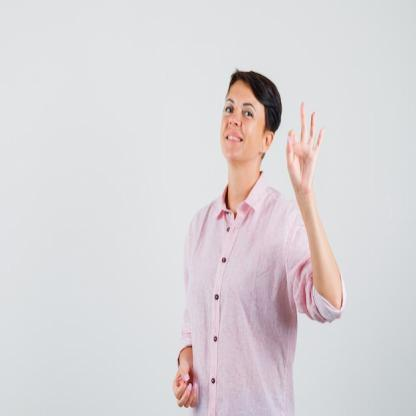ok: (285, 99, 327, 196)
